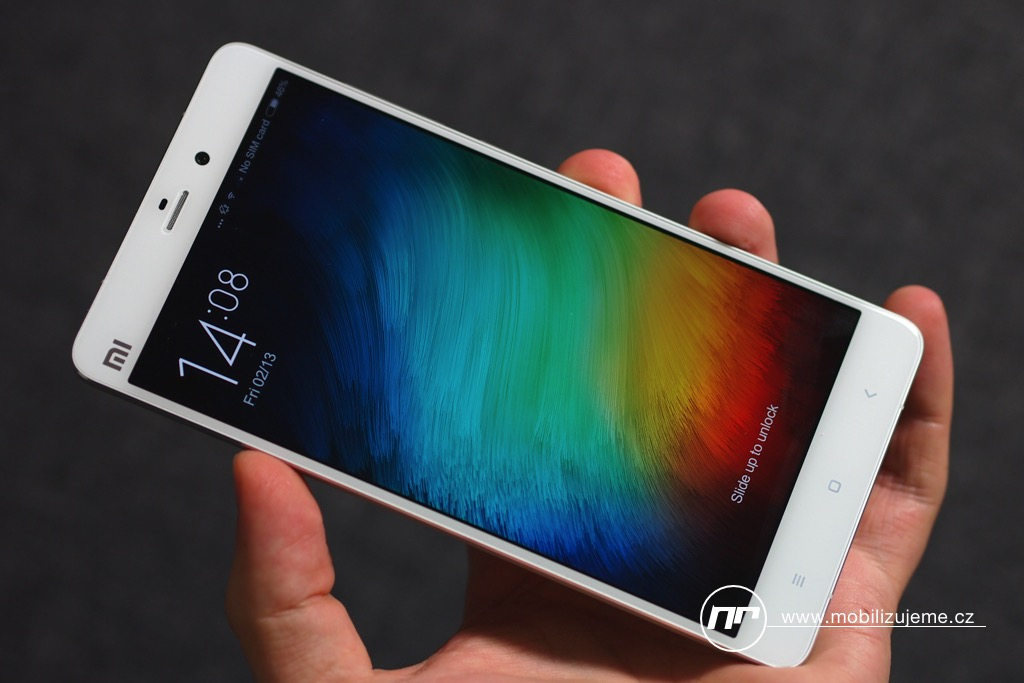smartphone: (70, 41, 925, 668)
